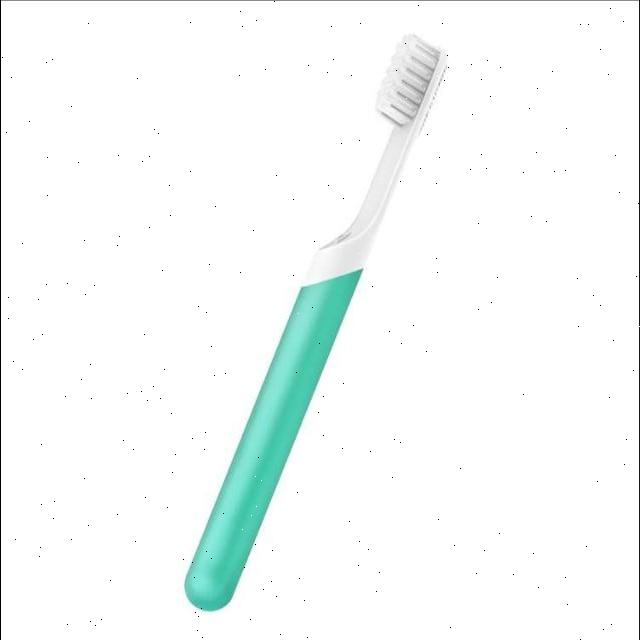toothbrush: (159, 0, 481, 640)
